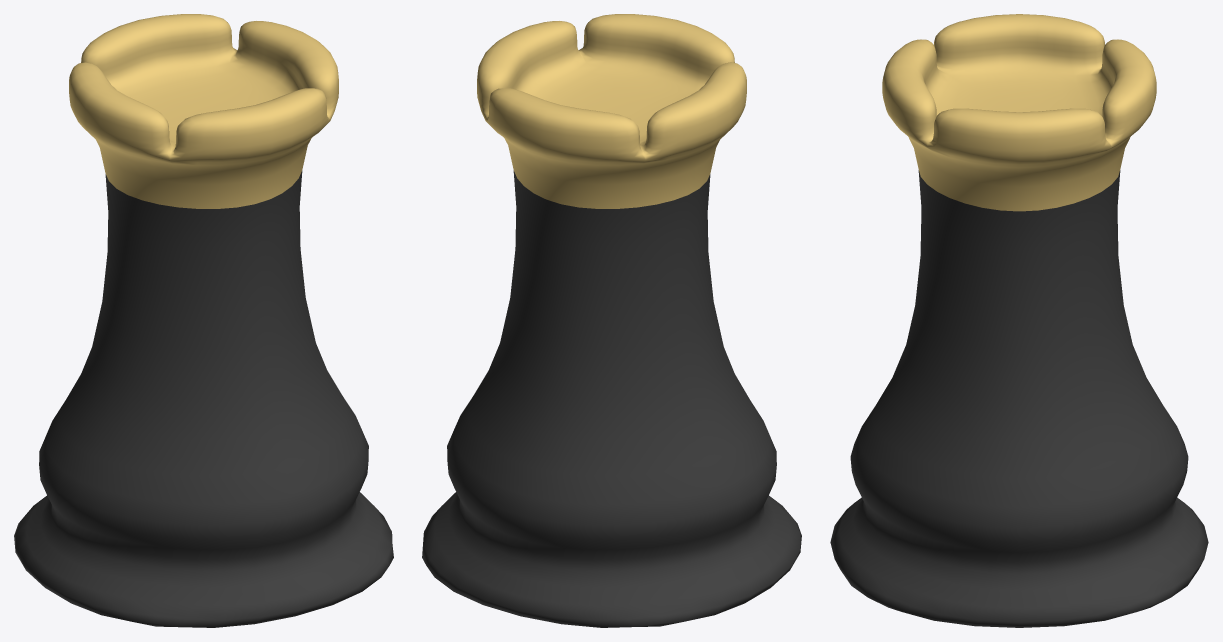
The model's file is sade_r_b.glb.
3 views of the same model, side by side, from view 1: azimuth 30°, elevation 25°; view 2: azimuth 150°, elevation 25°; view 3: azimuth 270°, elevation 25° (orthographic).
Visible parts, largest first — view 1: x; view 2: x; view 3: x.
Boxes of the visible parts, x1,y1,x2,y2 form: x: (14, 14, 393, 627); x: (422, 14, 801, 627); x: (830, 14, 1208, 627).
Bounding box in the file's own units: 0.6258 × 0.9 × 0.6258.
